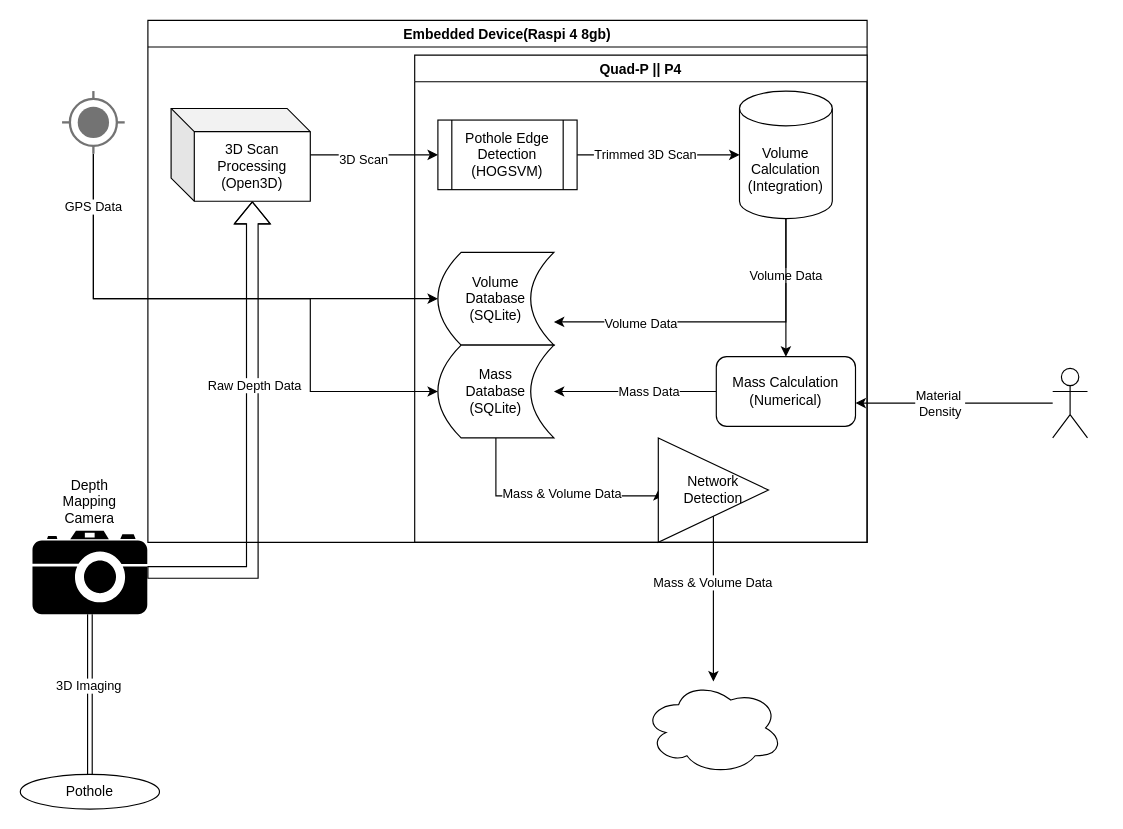
Some shapes in this 1123 by 829 pixel diagram are drawn without their labels. Each missing label, with the centre of its shape:
Cloud Database: (713,727)
Realsense D415: (89,572)
RTKGPS: (92,121)
Technician: (1070,402)
